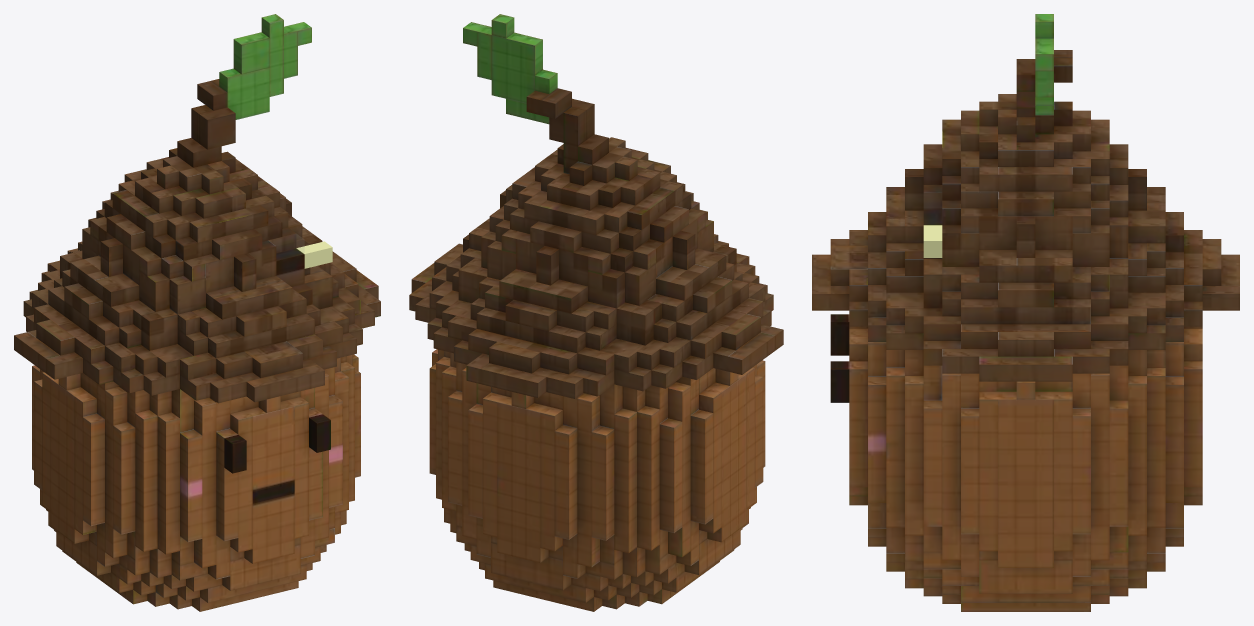
File: acorn.glb
3 views of the same model, side by side, from view 1: azimuth 30°, elevation 25°; view 2: azimuth 150°, elevation 25°; view 3: azimuth 270°, elevation 25° (orthographic). The views are drawn at different scales.
Visible parts, largest first — view 1: Body.011, Glow.010; view 2: Body.011; view 3: Body.011, Glow.010.
Part boxes in pixels (x1=…): Body.011: x1=14, y1=14, x2=380, y2=611; Glow.010: x1=296, y1=241, x2=332, y2=268; Body.011: x1=409, y1=14, x2=783, y2=611; Body.011: x1=812, y1=14, x2=1239, y2=611; Glow.010: x1=923, y1=225, x2=942, y2=257.
Size of the model in its own units: 3.45 by 5.25 by 3.45.
Materials: 3 (1 with a texture image).
